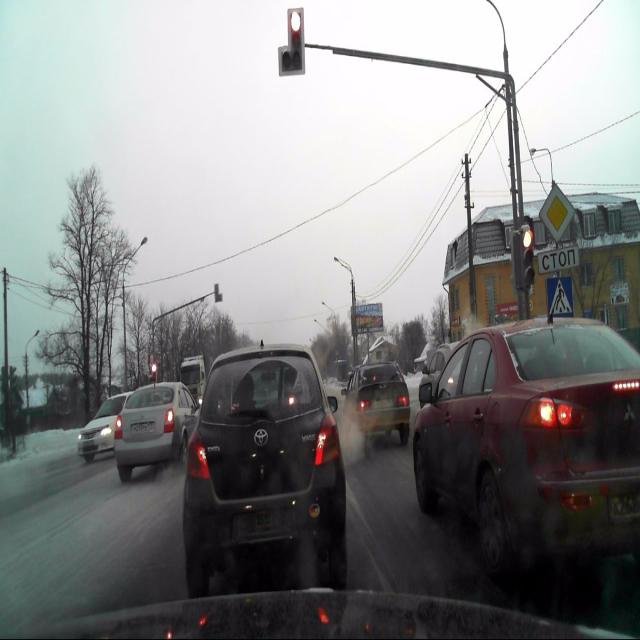road sign: (540, 182, 574, 241), (546, 275, 576, 319), (538, 244, 579, 274)
